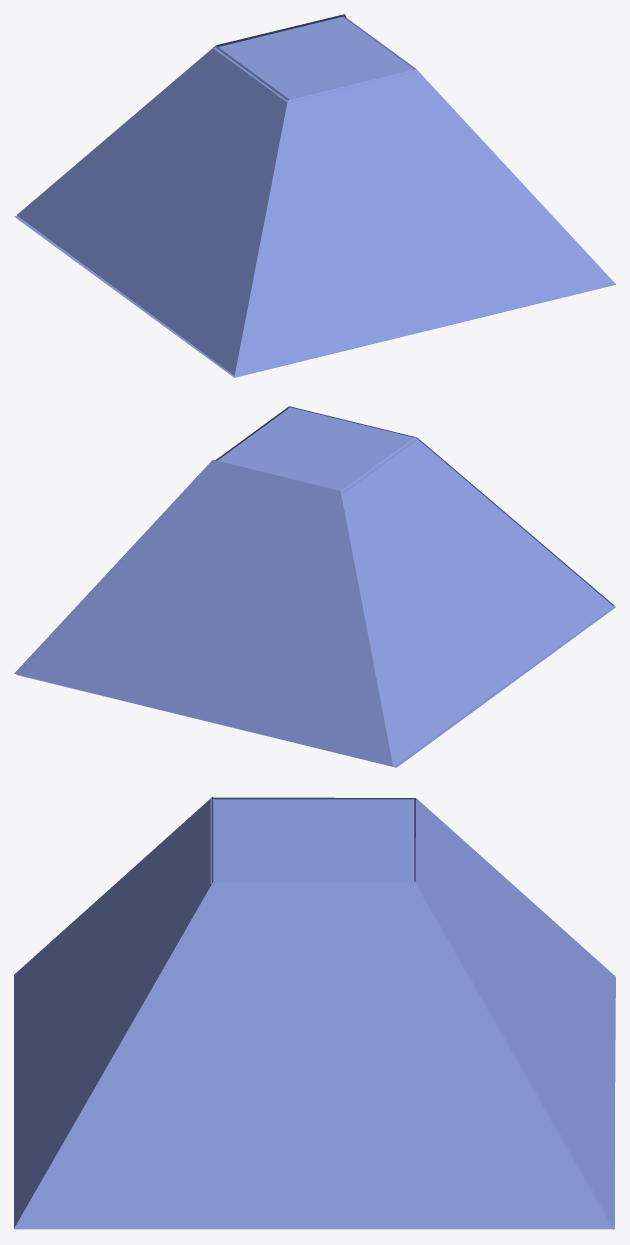
File: asset.glb
The picture shows the model from 3 angles, top to bottom: view 1: azimuth 30°, elevation 25°; view 2: azimuth 150°, elevation 25°; view 3: azimuth 270°, elevation 25°; orthographic projection. The views are drawn at different scales.
Visible parts, largest first — view 1: 3DGeom-1, 3DGeom-20, 3DGeom-21; view 2: 3DGeom-20, 3DGeom-21, 3DGeom-1; view 3: 3DGeom-1, 3DGeom-20, 3DGeom-21.
Boxes of the visible parts, <box> form: 3DGeom-1: <box>14,15,615,377</box>; 3DGeom-20: <box>17,14,346,375</box>; 3DGeom-21: <box>213,17,416,102</box>; 3DGeom-20: <box>14,437,613,766</box>; 3DGeom-21: <box>217,407,418,492</box>; 3DGeom-1: <box>17,406,615,767</box>; 3DGeom-1: <box>14,796,614,1229</box>; 3DGeom-20: <box>213,797,615,1229</box>; 3DGeom-21: <box>210,798,414,883</box>.
Size of the model in its own units: 0.2436 by 0.1169 by 0.2422.
